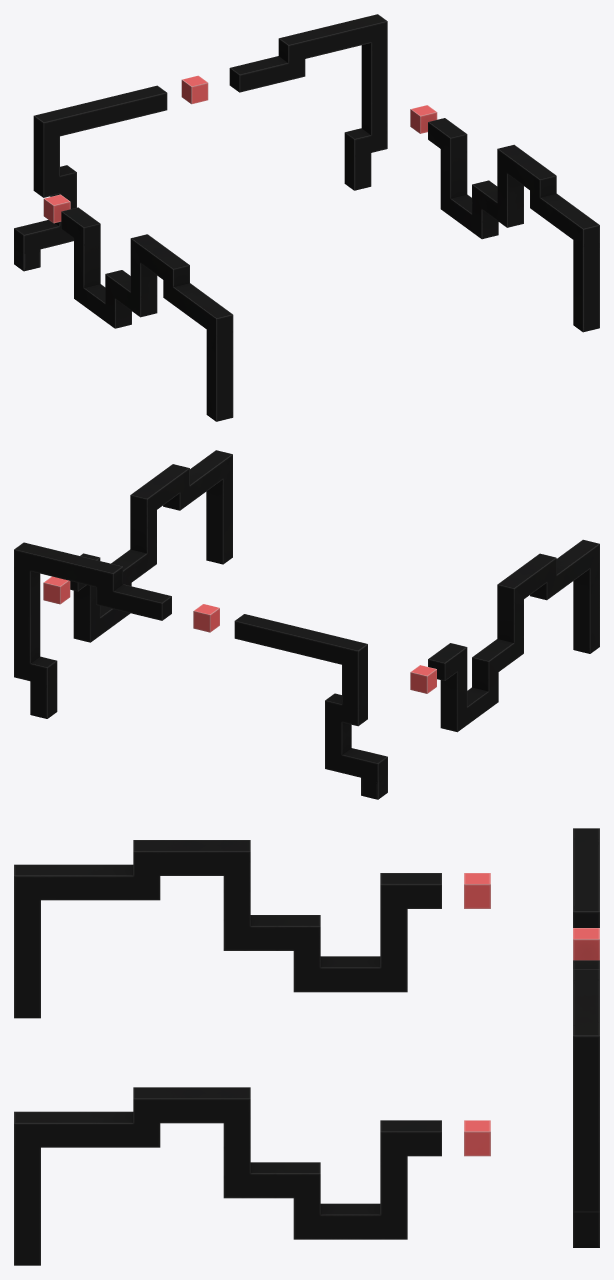
File: obj_wall.gltf
3 renders of one model, top to bottom at view 1: azimuth 30°, elevation 25°; view 2: azimuth 150°, elevation 25°; view 3: azimuth 270°, elevation 25°, orthographic. The views are drawn at different scales.
Parts seen in each view (by area): view 1: obj_wall; view 2: obj_wall; view 3: obj_wall.
Boxes of the visible parts, x1,y1,x2,y2 form: obj_wall: (14,14,599,421); obj_wall: (14,450,599,799); obj_wall: (14,828,599,1265).
Size of what is drawn, in the model's own units: 15.83 by 6.36 by 15.15.
Materials: 4 (4 with a texture image).
